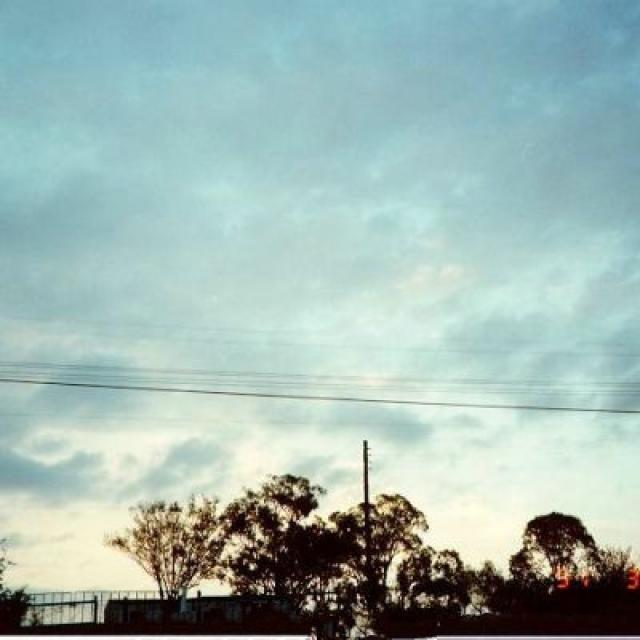Sc: (1, 33, 640, 346)
